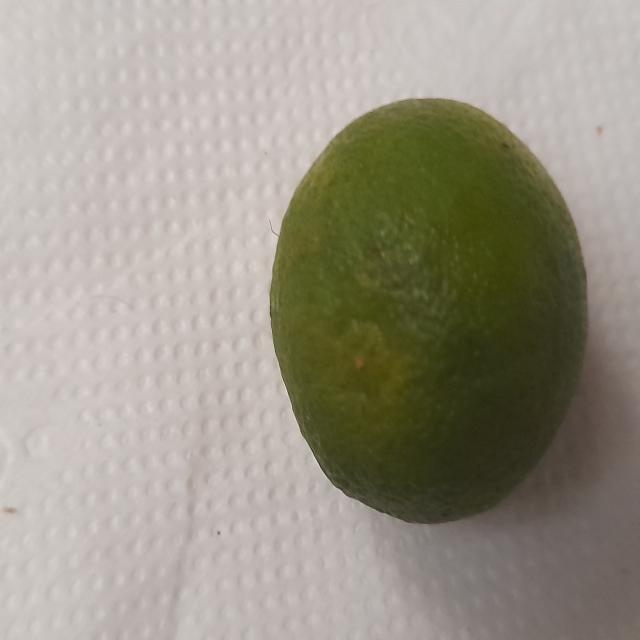heathy: (270, 87, 594, 526)
